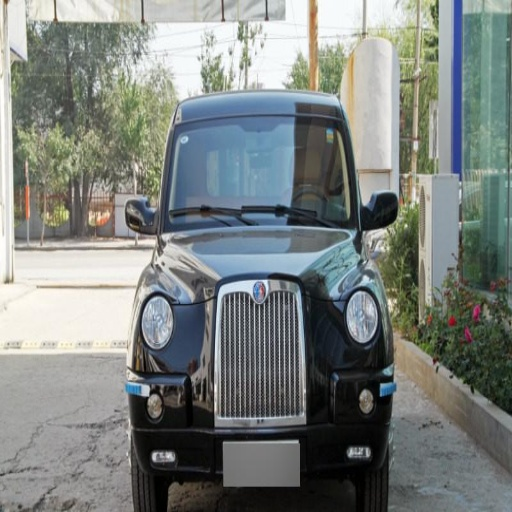front_bumper: (125, 274, 395, 486)
hood: (160, 223, 358, 279)
left_mirror: (362, 192, 398, 230)
